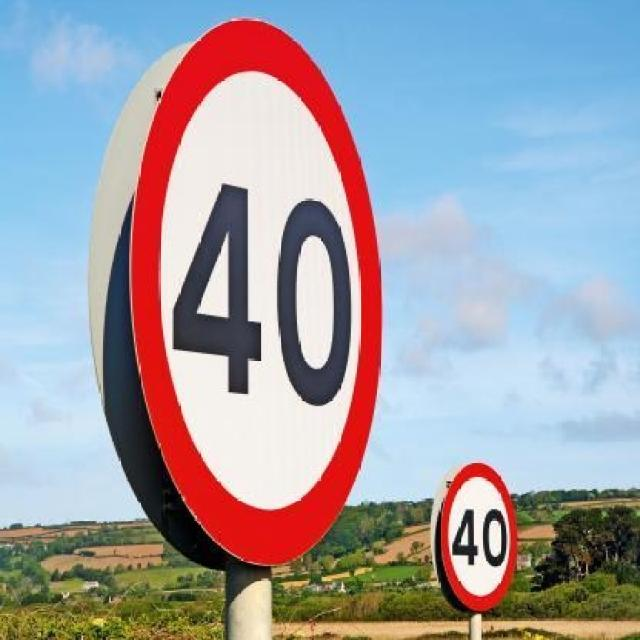forb_speed_over_40: (153, 17, 381, 546), (448, 463, 519, 608)
